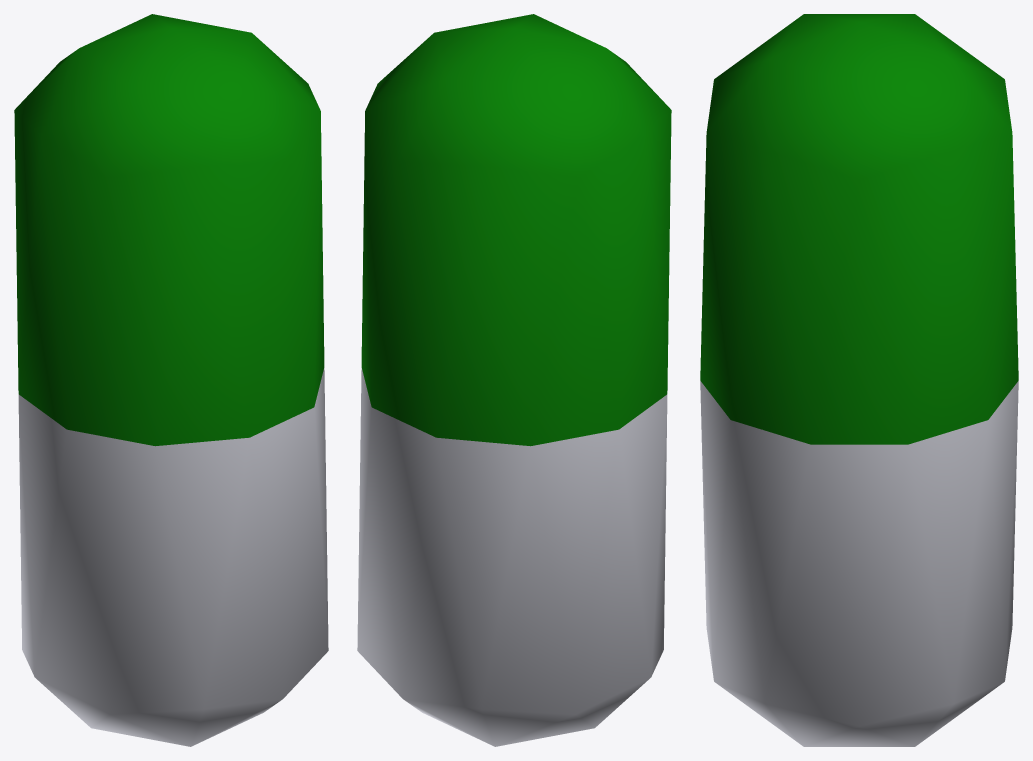
Rendered from pillpill.glb.
3 views of the same model, side by side, from view 1: azimuth 30°, elevation 25°; view 2: azimuth 150°, elevation 25°; view 3: azimuth 270°, elevation 25° (orthographic).
Parts seen in each view (by area): view 1: pillfinal; view 2: pillfinal; view 3: pillfinal.
Part boxes in pixels (x1,y1,x2,y2): pillfinal: (14, 14, 328, 746); pillfinal: (357, 14, 671, 746); pillfinal: (700, 14, 1018, 746).
Bounding box in the file's own units: 1.79 × 4.4 × 1.77.
